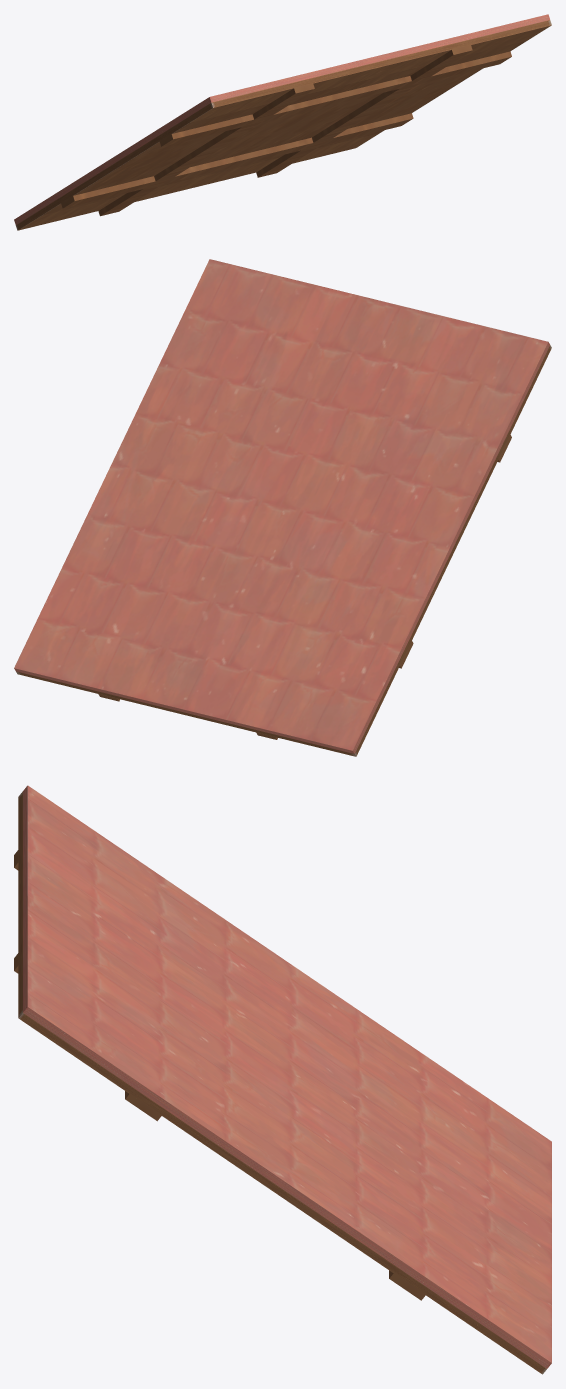
File: sm_building_wall03_01.fbx
3 renders of one model, top to bottom at view 1: azimuth 30°, elevation 25°; view 2: azimuth 150°, elevation 25°; view 3: azimuth 270°, elevation 25°, orthographic. The views are drawn at different scales.
Visible parts, largest first — view 1: Cube_12.008 (×2), Cube_12.007; view 2: Cube_12.007, Cube_12.008; view 3: Cube_12.007, Cube_12.008 (×2).
Boxes of the visible parts, left/top/right/bottom form: Cube_12.008 (×2): left=16, top=20, right=551, bottom=230; Cube_12.007: left=14, top=14, right=549, bottom=224; Cube_12.007: left=14, top=259, right=549, bottom=753; Cube_12.008: left=16, top=345, right=551, bottom=756; Cube_12.007: left=23, top=785, right=551, bottom=1368; Cube_12.008 (×2): left=14, top=791, right=546, bottom=1374.
Bounding box in the file's own units: 512 × 402 × 525.
Materials: 1 (1 with a texture image).
